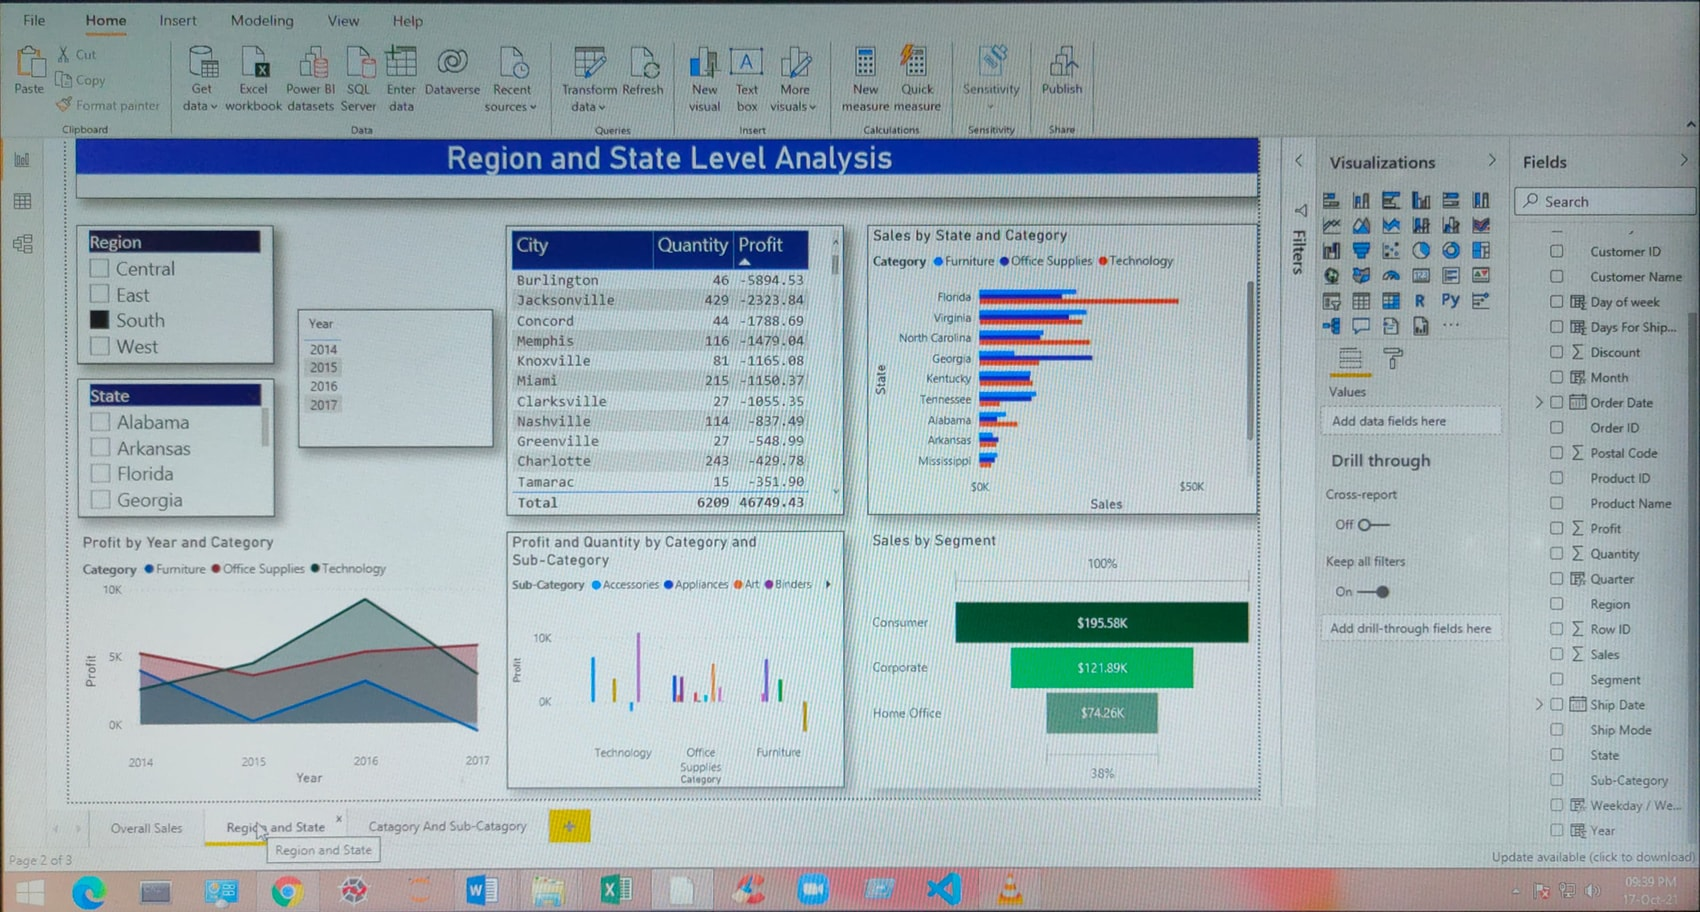

The page's visual inventory and layout, read from the dashboard file:
{"tool":"powerbi","page":{"name":"Region and State","canvas":[1280,720],"ordinal":1},"visuals":[{"type":"textbox","title":"Region and State Level Analysis","box":[10.3,0,1270,65],"z":0},{"type":"slicer","fields":{"Values":["Orders.Region"]},"box":[10.3,93.6,210,150.6],"z":1000},{"type":"slicer","fields":{"Values":["Orders.State"]},"box":[10.3,260.2,210,150.6],"z":2000},{"type":"tableEx","fields":{"Values":["Orders.Year"]},"box":[245.3,184.8,210,150.6],"z":3000},{"type":"tableEx","fields":{"Values":["Orders.City","Sum(Orders.Quantity)","Sum(Orders.Profit)"]},"box":[469,93.6,365.1,317.2],"z":4000},{"type":"clusteredBarChart","fields":{"Category":["Orders.State"],"Series":["Orders.Category"],"Y":["Sum(Orders.Sales)"]},"box":[859.2,93.6,421,317.2],"z":5000},{"type":"areaChart","fields":{"Category":["Orders.Year"],"Series":["Orders.Category"],"Y":["Sum(Orders.Profit)"]},"box":[10.3,427.9,445,280.7],"z":6000},{"type":"lineClusteredColumnComboChart","fields":{"Category":["Orders.Category"],"Series":["Orders.Sub-Category"],"Y":["Sum(Orders.Profit)"]},"box":[469,428,365,281],"z":7000},{"type":"funnel","fields":{"Category":["Orders.Segment"],"Y":["Sum(Orders.Sales)"]},"box":[859.2,428,420.8,281],"z":8000}]}

Visuals, with their boxes on the page's 1280x720 design canvas (x1, y1, x2, y2). These are canvas units, not pixel positions in the 1700x912 screenshot, which may show the page scaled, cropped or inside an application window:
"Region and State Level Analysis" textbox: crop(10, 0, 1280, 65)
slicer - Orders.Region: crop(10, 94, 220, 244)
slicer - Orders.State: crop(10, 260, 220, 411)
tableEx - Orders.Year: crop(245, 185, 455, 335)
tableEx - Orders.City x Sum(Orders.Quantity): crop(469, 94, 834, 411)
clusteredBarChart - Orders.State x Orders.Category: crop(859, 94, 1280, 411)
areaChart - Orders.Year x Orders.Category: crop(10, 428, 455, 709)
lineClusteredColumnComboChart - Orders.Category x Orders.Sub-Category: crop(469, 428, 834, 709)
funnel - Orders.Segment x Sum(Orders.Sales): crop(859, 428, 1280, 709)
